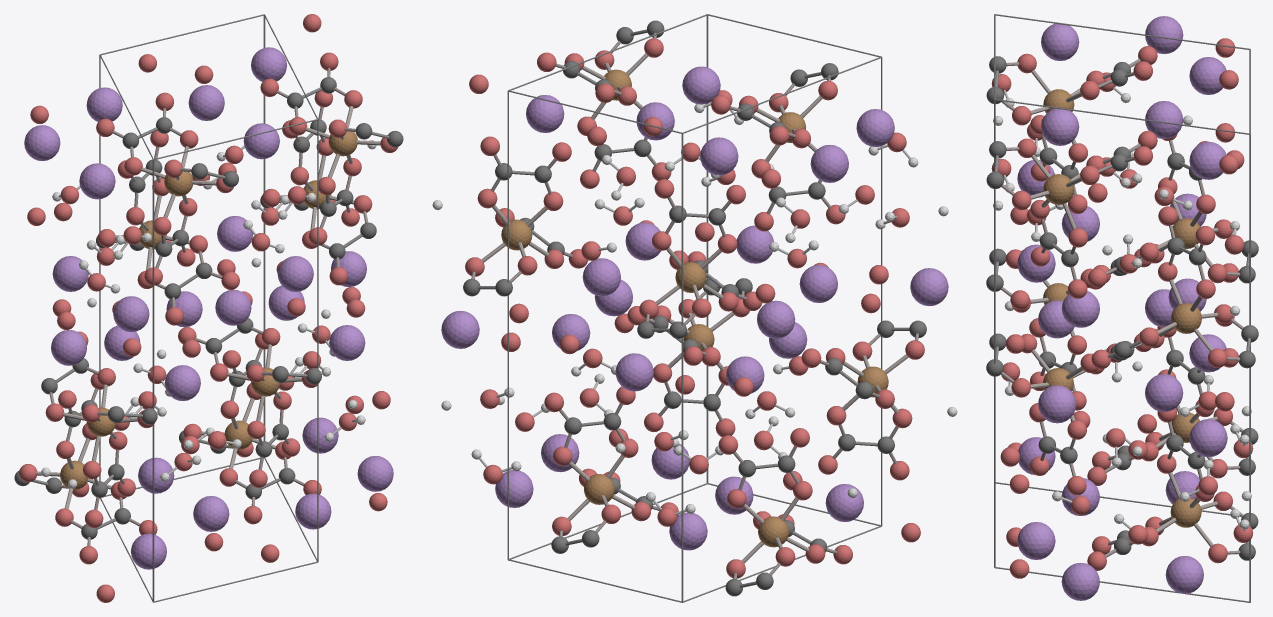
The model's file is Potassium_tris_oxalato_ferrate_III_trihydrate.glb.
3 views of the same model, side by side, from view 1: azimuth 30°, elevation 25°; view 2: azimuth 150°, elevation 25°; view 3: azimuth 270°, elevation 25° (orthographic). The views are drawn at different scales.
Parts seen in each view (by area): view 1: O_atoms, K_atoms, C_atoms, bonds, unit_cell_outline, Fe_atoms, H_atoms; view 2: O_atoms, K_atoms, C_atoms, bonds, unit_cell_outline, Fe_atoms, H_atoms; view 3: O_atoms, K_atoms, C_atoms, bonds, Fe_atoms, unit_cell_outline, H_atoms.
Boxes of the visible parts, <box> form: O_atoms: <box>19,14,398,602</box>; K_atoms: <box>24,47,393,569</box>; C_atoms: <box>14,77,403,539</box>; bonds: <box>32,68,389,545</box>; unit_cell_outline: <box>99,14,318,602</box>; Fe_atoms: <box>60,131,357,489</box>; H_atoms: <box>41,140,376,488</box>; O_atoms: <box>465,38,924,578</box>; K_atoms: <box>441,66,948,550</box>; C_atoms: <box>463,20,926,596</box>; bonds: <box>471,29,918,587</box>; unit_cell_outline: <box>507,14,882,602</box>; Fe_atoms: <box>501,69,888,547</box>; H_atoms: <box>432,104,957,513</box>; O_atoms: <box>991,38,1253,578</box>; K_atoms: <box>1017,16,1227,600</box>; C_atoms: <box>986,56,1258,560</box>; bonds: <box>994,59,1250,557</box>; Fe_atoms: <box>1043,89,1201,527</box>; unit_cell_outline: <box>994,14,1250,602</box>; H_atoms: <box>993,93,1251,529</box>.
Size of the model in its own units: 18.49 by 19.97 by 10.51.
